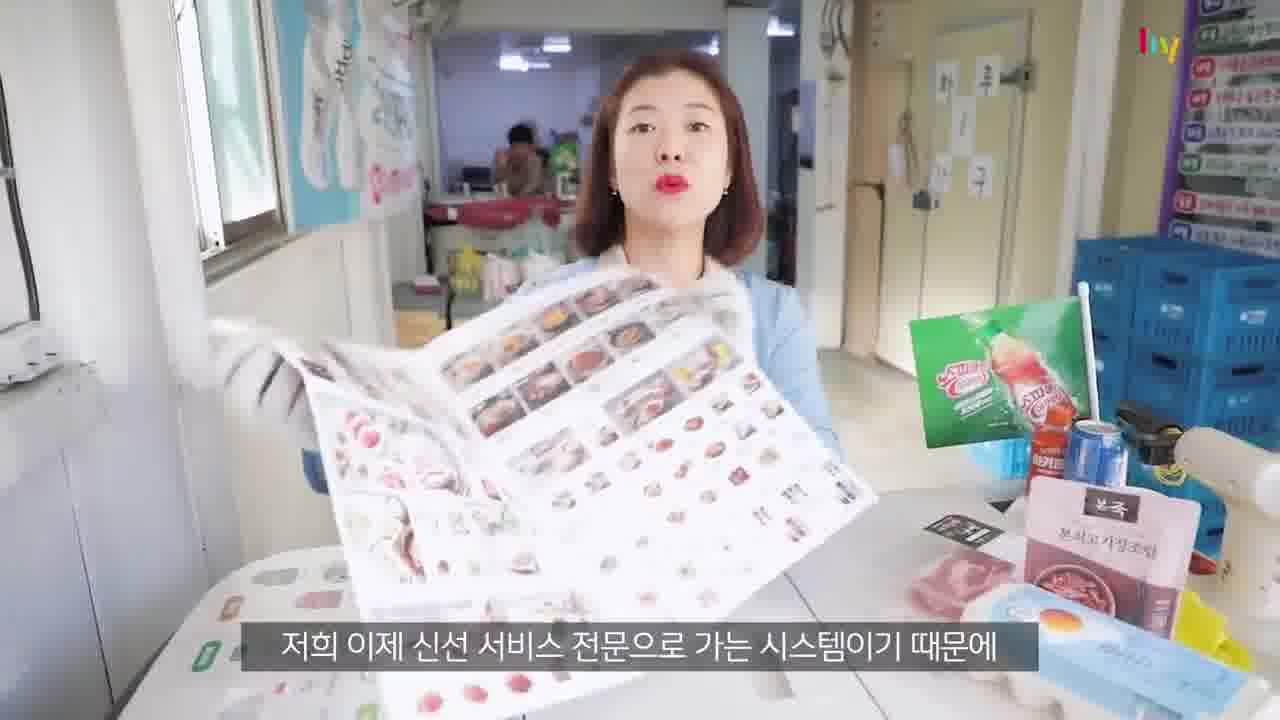Yakurut: (533, 49, 851, 447)
